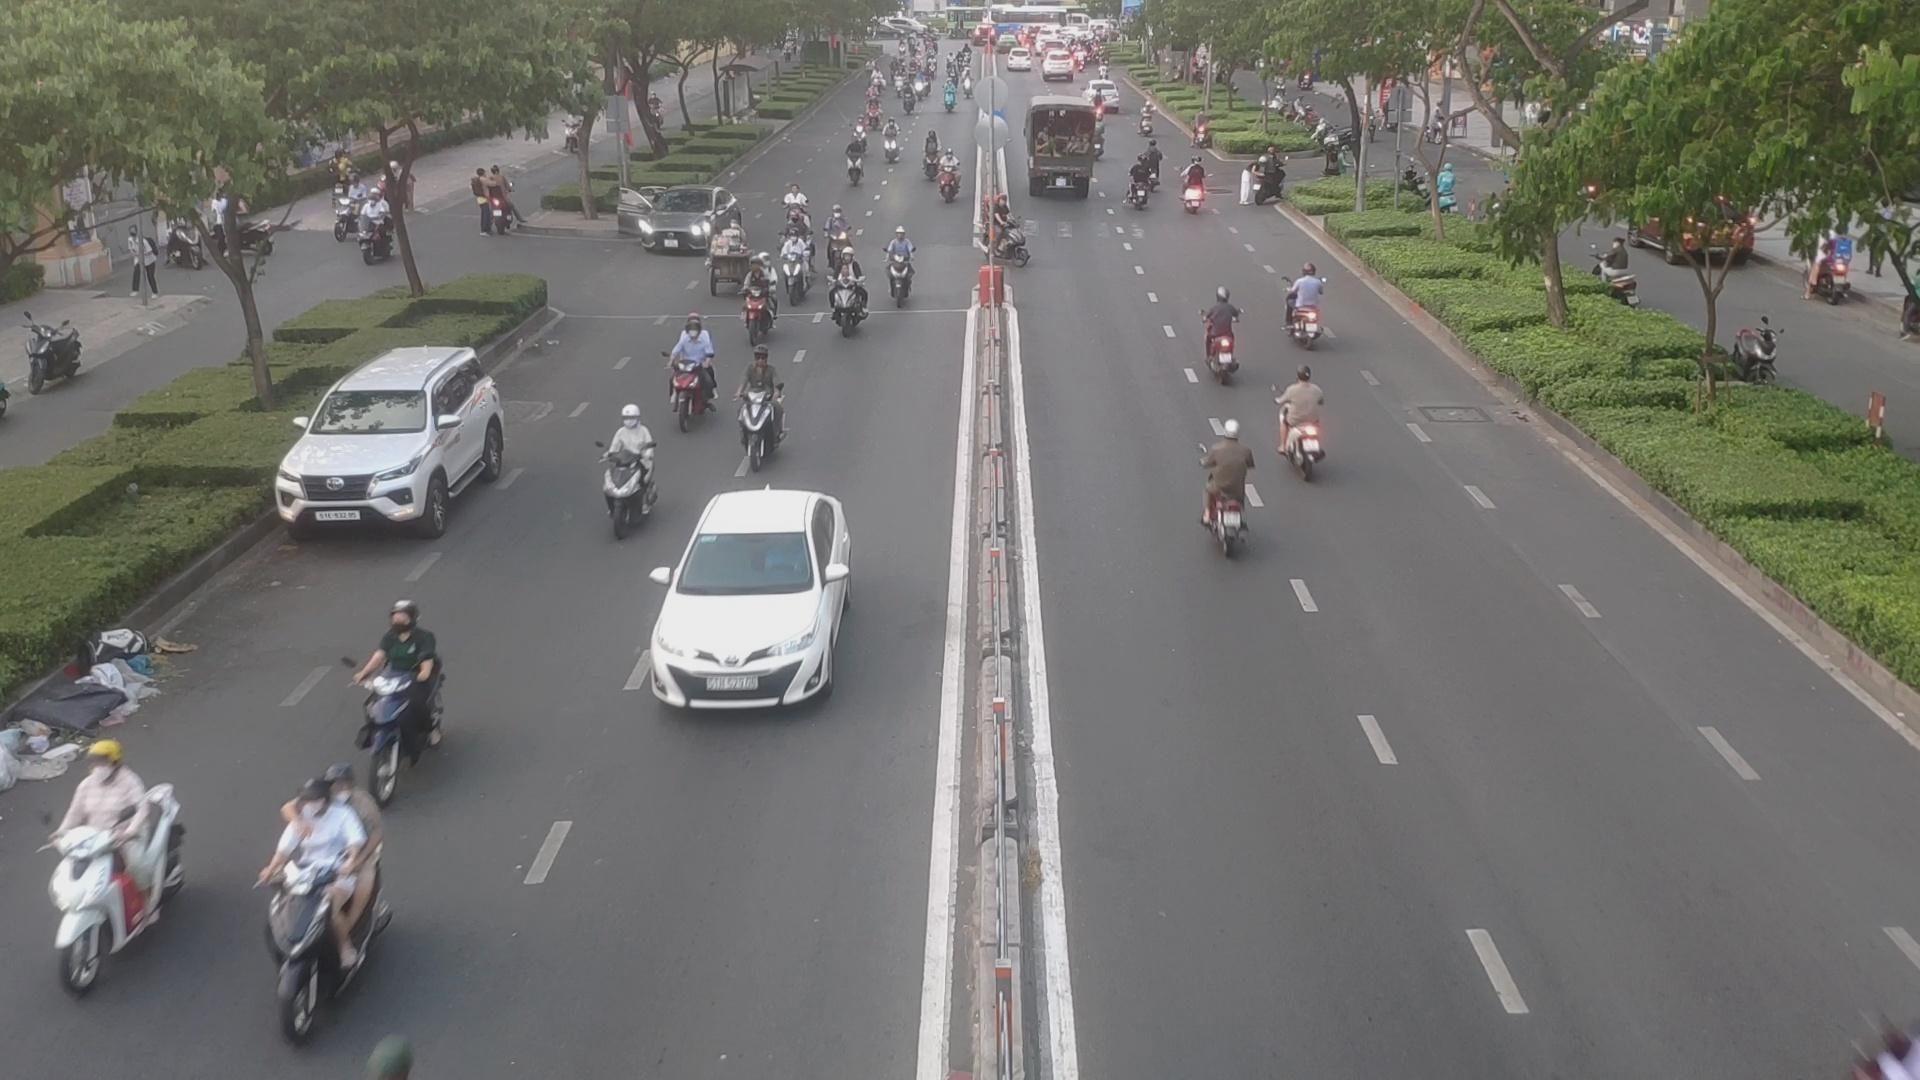car: (622, 491, 856, 711), (280, 344, 520, 530), (615, 191, 738, 258)
motorbike: (33, 758, 181, 992), (256, 781, 385, 1021), (356, 604, 454, 757), (1200, 426, 1269, 549), (595, 413, 661, 527), (1269, 373, 1337, 475), (667, 319, 725, 423), (735, 353, 790, 458), (1201, 294, 1251, 382), (980, 199, 1038, 269), (1279, 265, 1329, 345), (880, 225, 920, 307), (745, 252, 775, 349), (831, 276, 876, 342), (778, 225, 812, 302), (820, 204, 860, 258), (1183, 153, 1211, 218), (1127, 161, 1160, 210), (935, 156, 967, 204), (843, 145, 872, 190)
